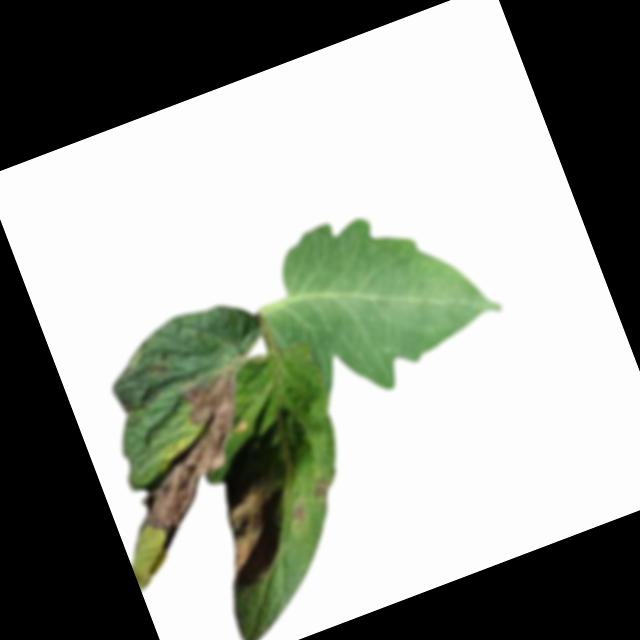Late_blight: (96, 363, 288, 557), (200, 472, 301, 591), (307, 473, 337, 504), (289, 497, 314, 530)
